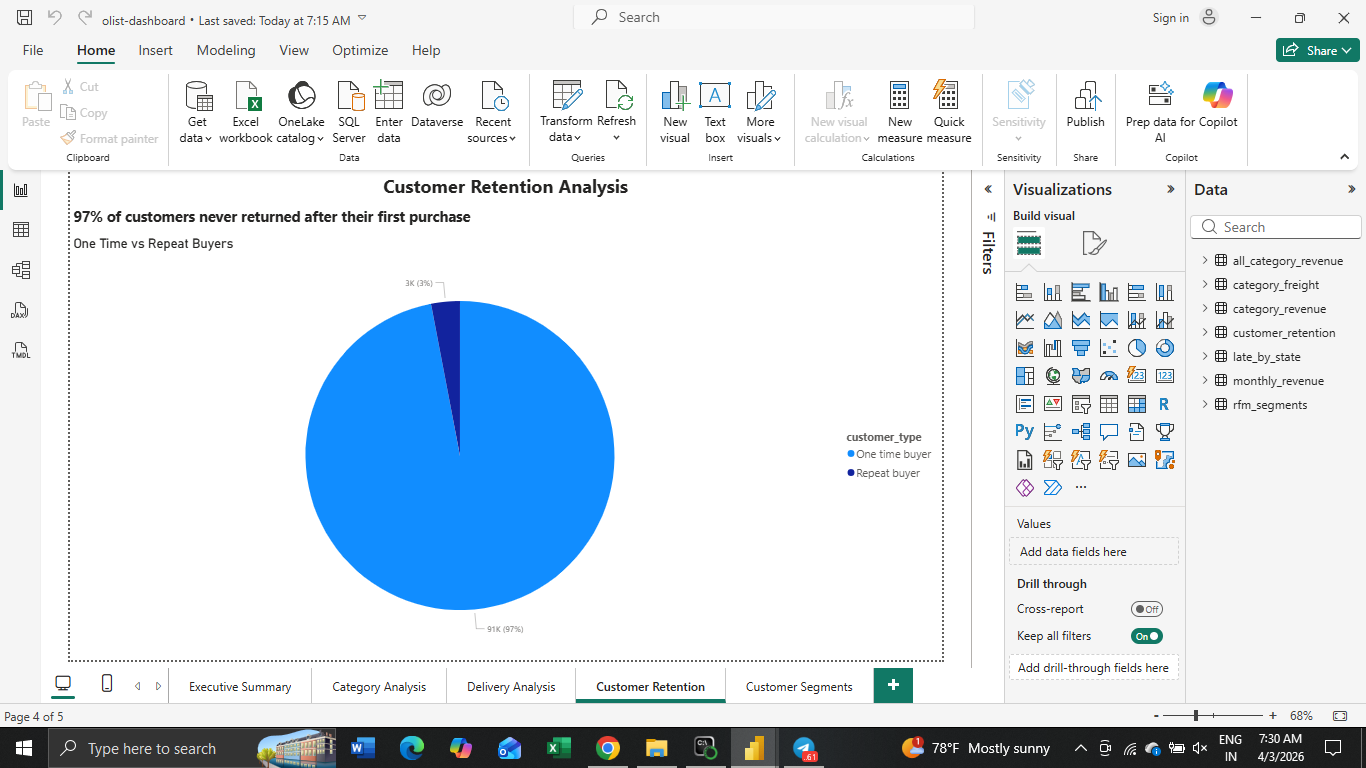

What the dashboard file says about the page in this screenshot:
{"tool":"powerbi","page":{"name":"Customer Retention","canvas":[1280,720],"ordinal":3},"visuals":[{"type":"pieChart","title":"One Time vs Repeat Buyers","fields":{"Category":["customer_retention.customer_type"],"Y":["Sum(customer_retention.count)"]},"box":[0,96.7,1280,623.3],"z":0},{"type":"textbox","box":[0,0,1280,48.3],"z":1000},{"type":"textbox","box":[0,48.3,1280,48.3],"z":2000}]}

Visuals, with their boxes on the page's 1280x720 design canvas (x1, y1, x2, y2). These are canvas units, not pixel positions in the 1366x768 screenshot, which may show the page scaled, cropped or inside an application window:
"One Time vs Repeat Buyers" pieChart: 0/97/1280/720
textbox: 0/0/1280/48
textbox: 0/48/1280/97
